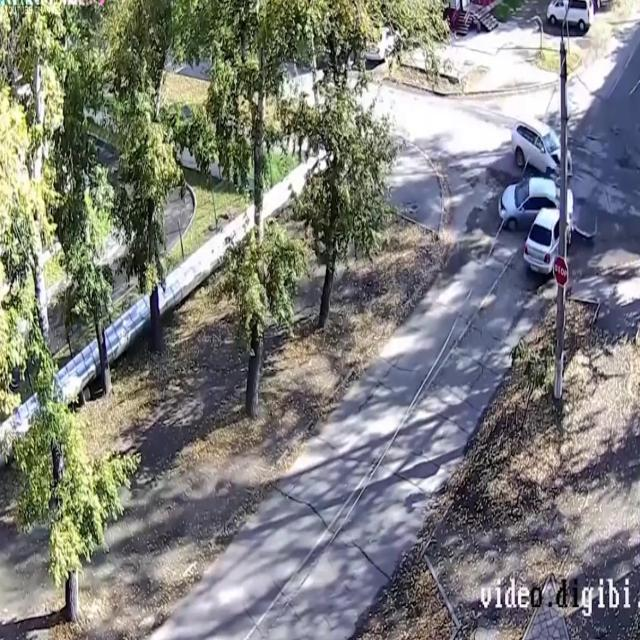accident: (495, 111, 602, 285)
